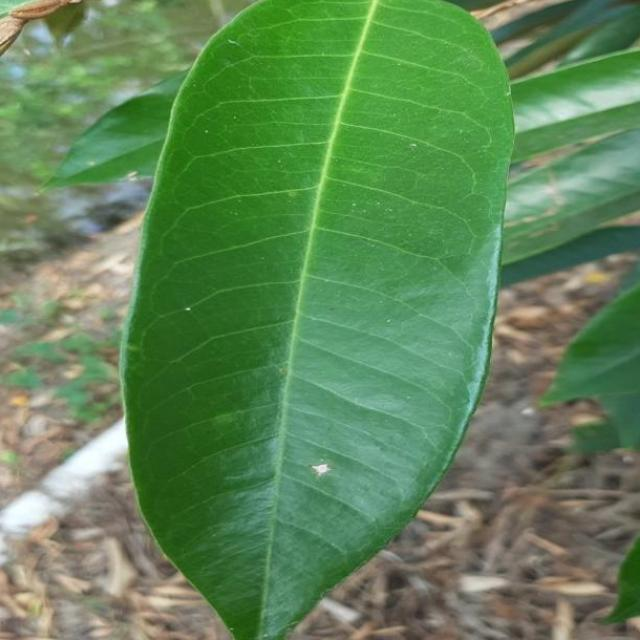No Disease: (104, 0, 533, 640)
